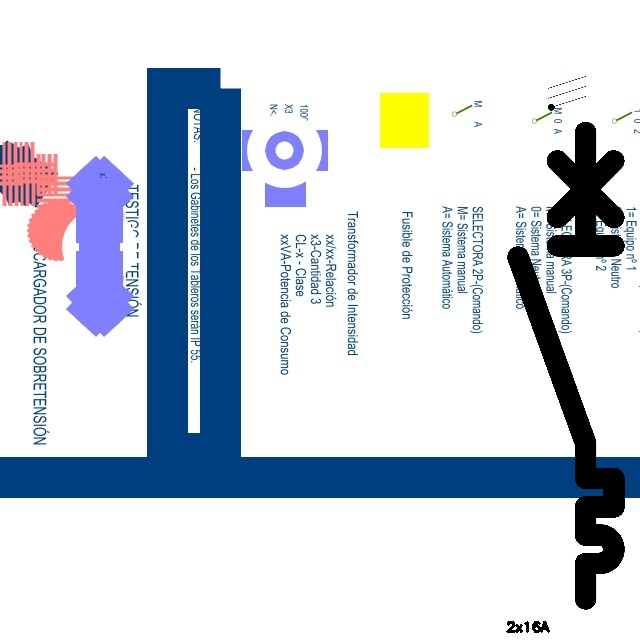interruptor_termomagnetico: (506, 120, 626, 611)
